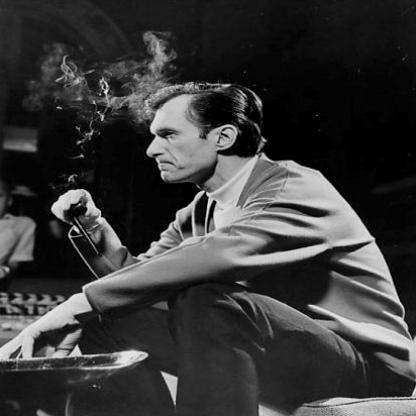person: (115, 84, 384, 416)
smoke: (28, 48, 129, 113), (132, 27, 172, 104)
